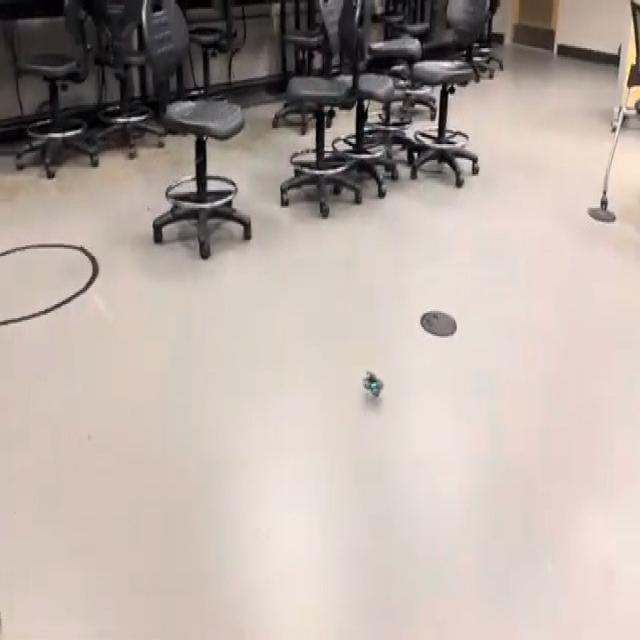drone: (354, 356, 390, 409)
